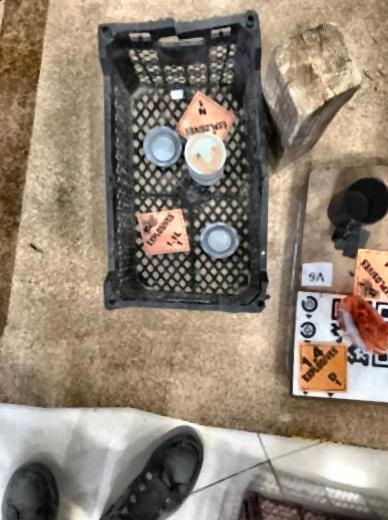explosive: (176, 89, 235, 150), (136, 206, 190, 258), (298, 342, 348, 391), (354, 249, 388, 302)
